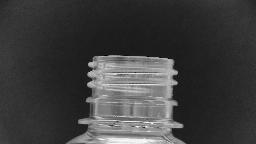No Cap: (72, 50, 188, 132)
